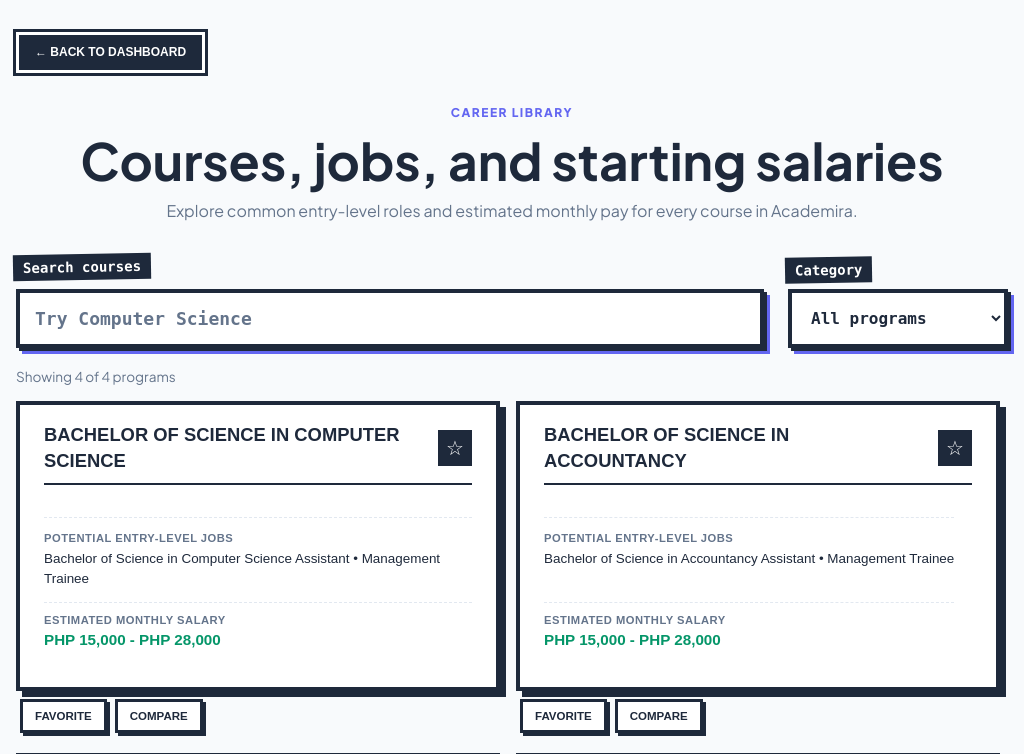
CareerLibrary › opens and closes the recommended-school dialog
Click the button "Bachelor of Science in Computer Science": (258, 546) [16,401,500,691]
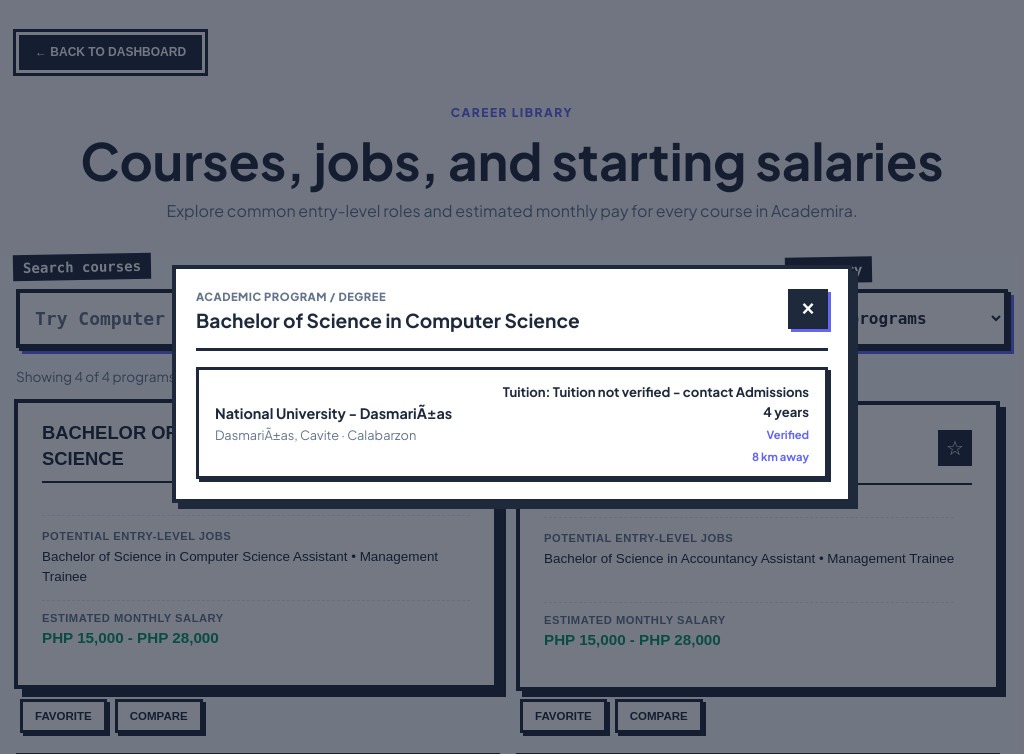
Now the dialog "Bachelor of Science in Computer Science" is shown, box [172,265,852,503]
Now the text "National University - DasmariÃ±as" is shown, box [215,404,452,422]
Now the text "8 km away" is shown, box [752,449,809,463]
Click the button named "Close school list": (808, 309) [788,289,828,329]
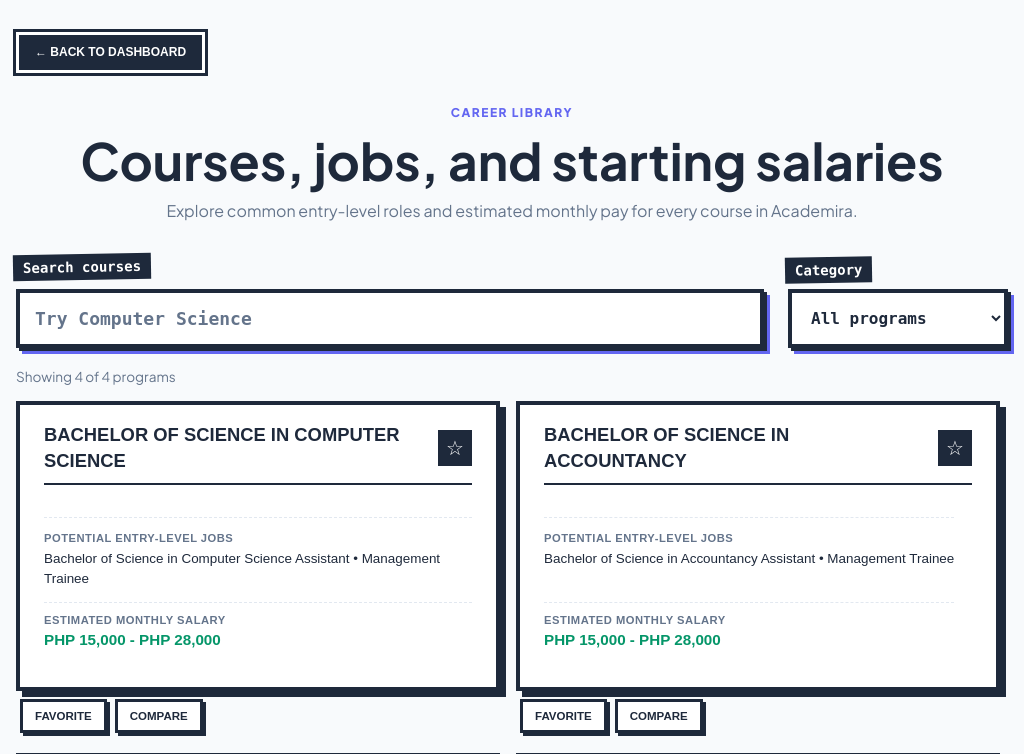
Now the dialog is gone
